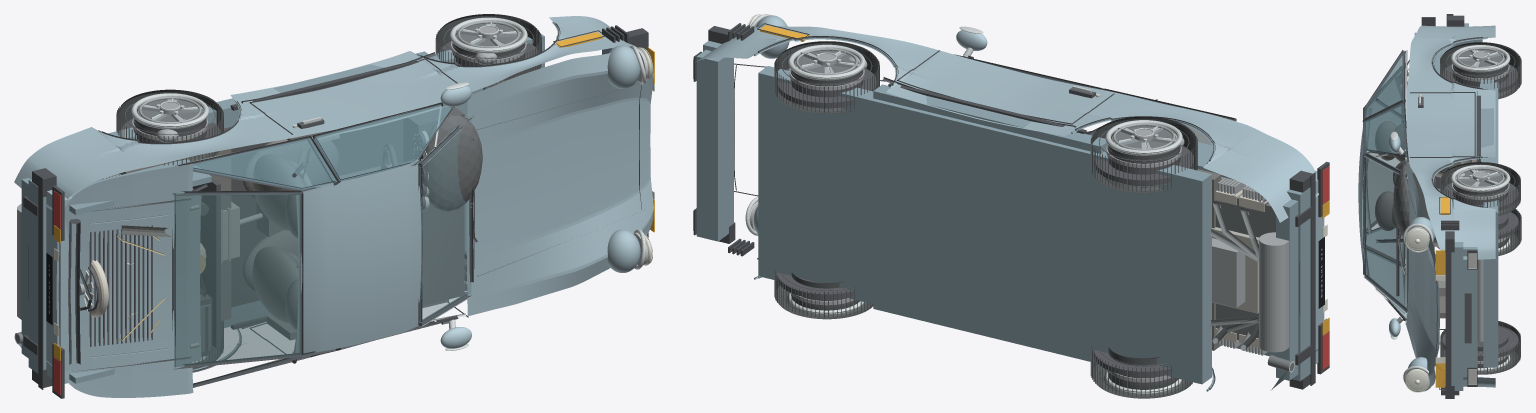
File: Borsche_911_1981_Smooth_Closed.glb
The picture shows the model from 3 angles, left to right: view 1: azimuth 30°, elevation 25°; view 2: azimuth 150°, elevation 25°; view 3: azimuth 270°, elevation 25°; orthographic projection. The views are drawn at different scales.
Parts seen in each view (by area): view 1: fixed__paint, fixed__rear_glass, lid__paint, fixed__rubber, fixed__leather, fixed__side_glass, fixed__dashboard, fixed__paint_shadow, fixed__glass, fixed__silhouette, fixed__interior, fixed__chrome (+15 smaller); view 2: fixed__paint_shadow, fixed__paint, fixed__alloy, fixed__rubber, fixed__silhouette, fixed__tire, fixed__tire_tread, fixed__dark_metal, fixed__chrome, fixed__brake, fixed__engine, fixed__engine_light (+3 smaller); view 3: fixed__paint, fixed__paint_shadow, fixed__rubber, fixed__glass, fixed__side_glass, fixed__silhouette, fixed__tire, fixed__chrome, fixed__tire_tread, fixed__rear_glass, fixed__leather, fixed__alloy (+10 smaller).
Part boxes in pixels (x1,y1,x2,y2): fixed__paint: (14,16,653,397); fixed__rear_glass: (174,193,301,367); lid__paint: (71,199,191,369); fixed__rubber: (23,23,648,398); fixed__leather: (119,102,448,340); fixed__side_glass: (193,104,451,385); fixed__dashboard: (403,106,482,305); fixed__paint_shadow: (21,21,646,383); fixed__glass: (420,117,471,322); fixed__silhouette: (28,34,538,356); fixed__interior: (224,119,414,306); fixed__chrome: (14,17,645,383); fixed__paint_shadow: (696,37,1317,391); fixed__paint: (695,15,1324,390); fixed__alloy: (796,48,1289,355); fixed__rubber: (693,23,1329,389); fixed__silhouette: (777,54,1300,385); fixed__tire: (774,41,1196,398); fixed__tire_tread: (774,43,1197,396); fixed__dark_metal: (794,50,1294,371); fixed__chrome: (745,14,1294,394); fixed__brake: (789,68,1181,382); fixed__engine: (1212,227,1259,313); fixed__engine_light: (1215,189,1267,347); fixed__paint: (1358,25,1495,387); fixed__paint_shadow: (1414,23,1498,390); fixed__rubber: (1362,14,1482,398); fixed__glass: (1364,155,1408,310); fixed__side_glass: (1364,50,1406,320); fixed__silhouette: (1403,58,1518,365); fixed__tire: (1440,42,1520,374); fixed__chrome: (1375,45,1510,391); fixed__tire_tread: (1440,52,1521,373); fixed__rear_glass: (1366,68,1402,230); fixed__leather: (1375,121,1471,318); fixed__alloy: (1399,47,1504,341).
Bounding box in the file's own units: 4.32 × 1.8 × 1.32.
37 materials, 3 textured.
